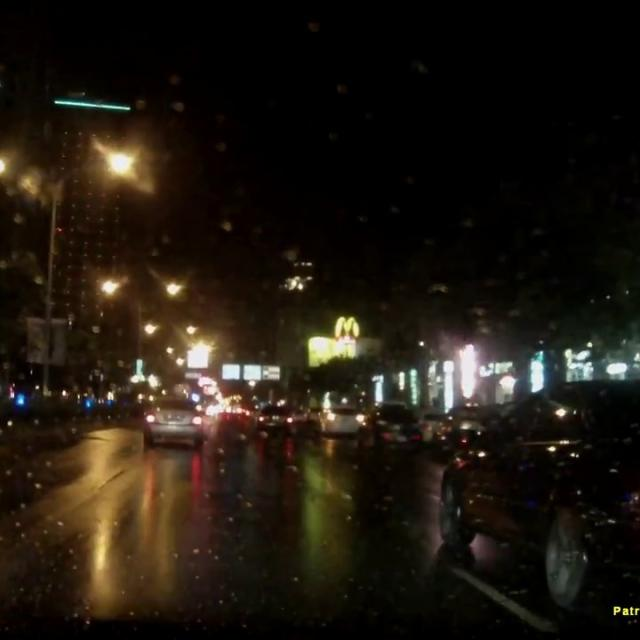Car: (435, 378, 639, 608), (141, 394, 200, 446), (357, 408, 415, 450), (312, 405, 364, 435), (254, 403, 292, 434), (416, 411, 446, 447)
